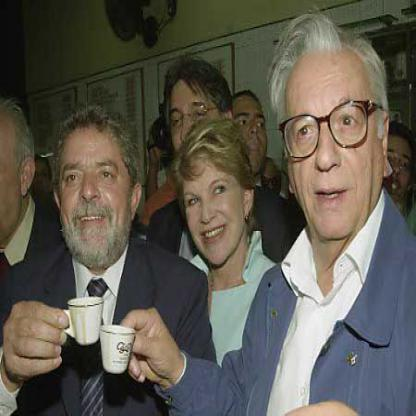face: (283, 32, 385, 244), (56, 113, 134, 265), (182, 132, 246, 268), (168, 62, 227, 182), (226, 92, 272, 175), (374, 126, 416, 205), (30, 158, 52, 196)
